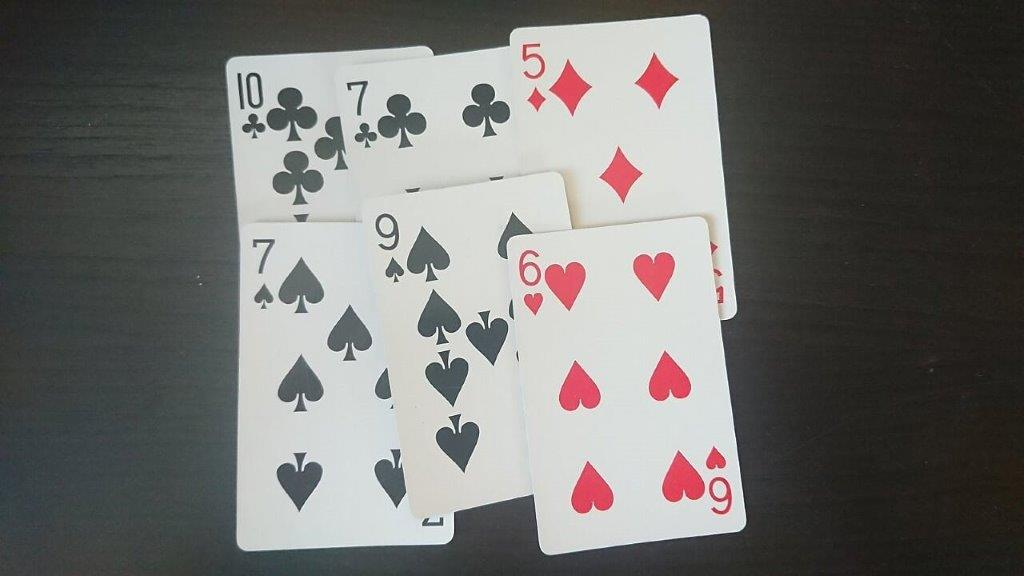10C: (230, 61, 277, 151)
5D: (514, 36, 555, 118)
6H: (511, 242, 555, 323)
7C: (341, 72, 384, 157)
7S: (245, 229, 287, 323)
9S: (368, 205, 422, 294)
